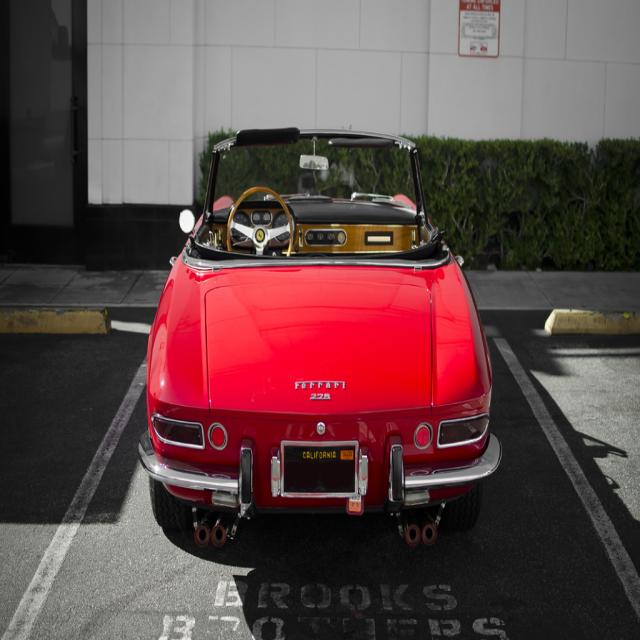car: (136, 121, 501, 543)
